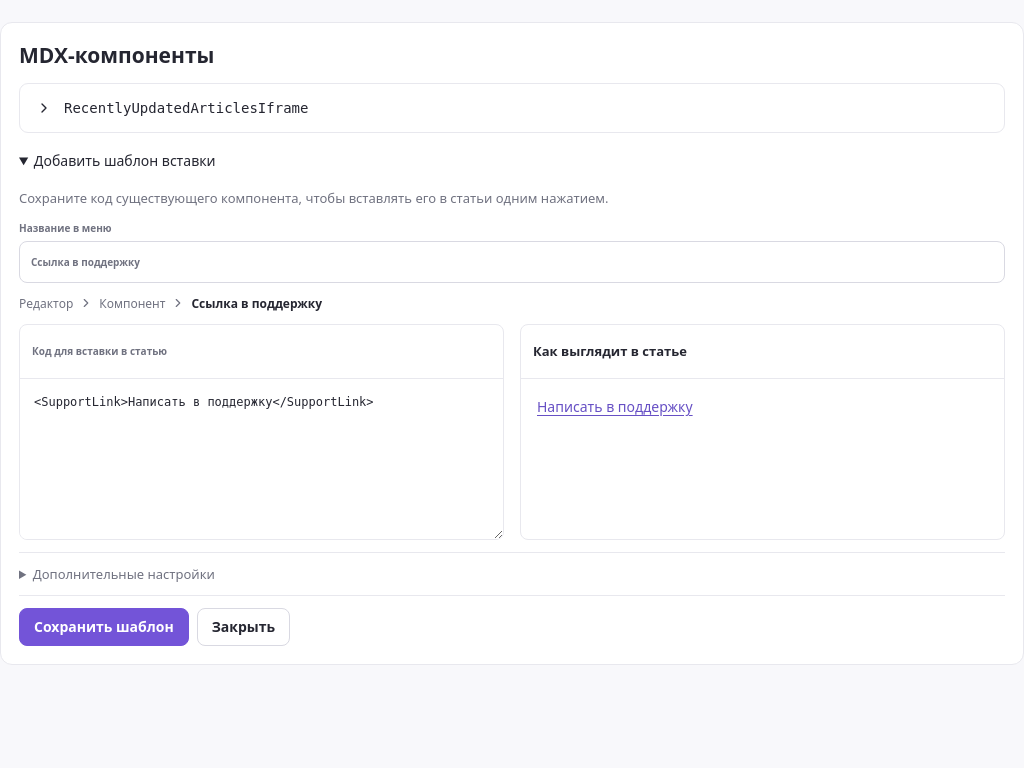
shows where the template is used, previews edits and saves the template fields
Replace the text in the field labelled "Название в меню" with "Помощь" at (512, 262), box [19,241,1005,283]
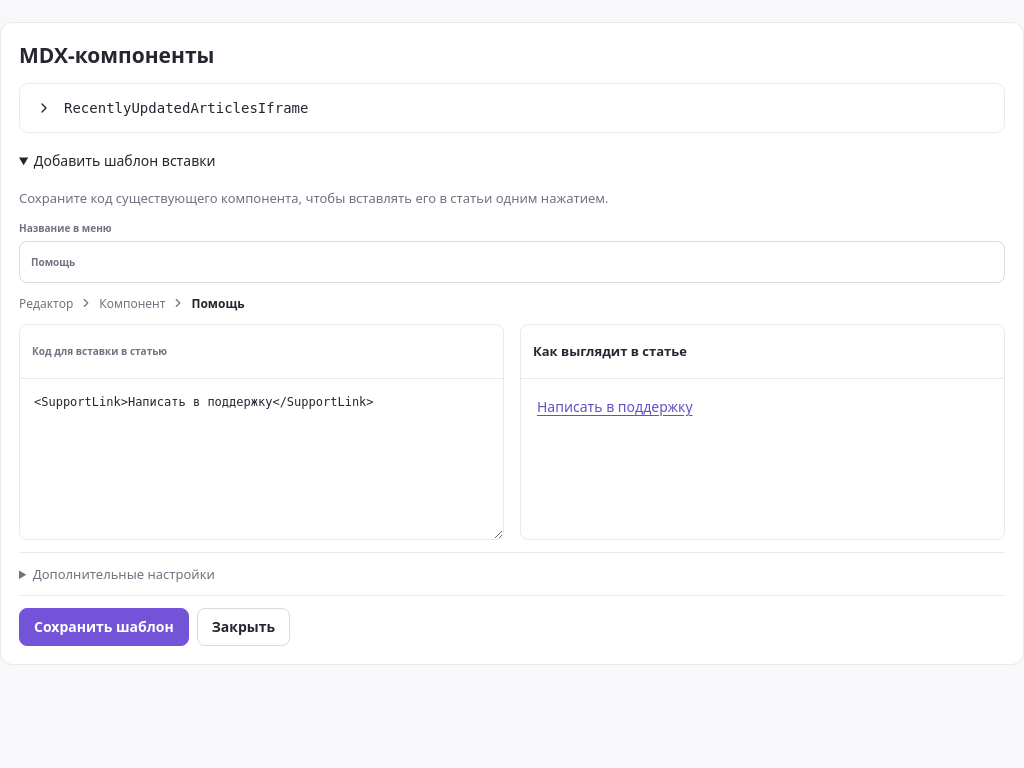
Replace the text in the text box labelled "Код для вставки в статью" with "<SupportLink>Связаться с нами</SupportLink>" at (262, 459), box [20,379,503,539]
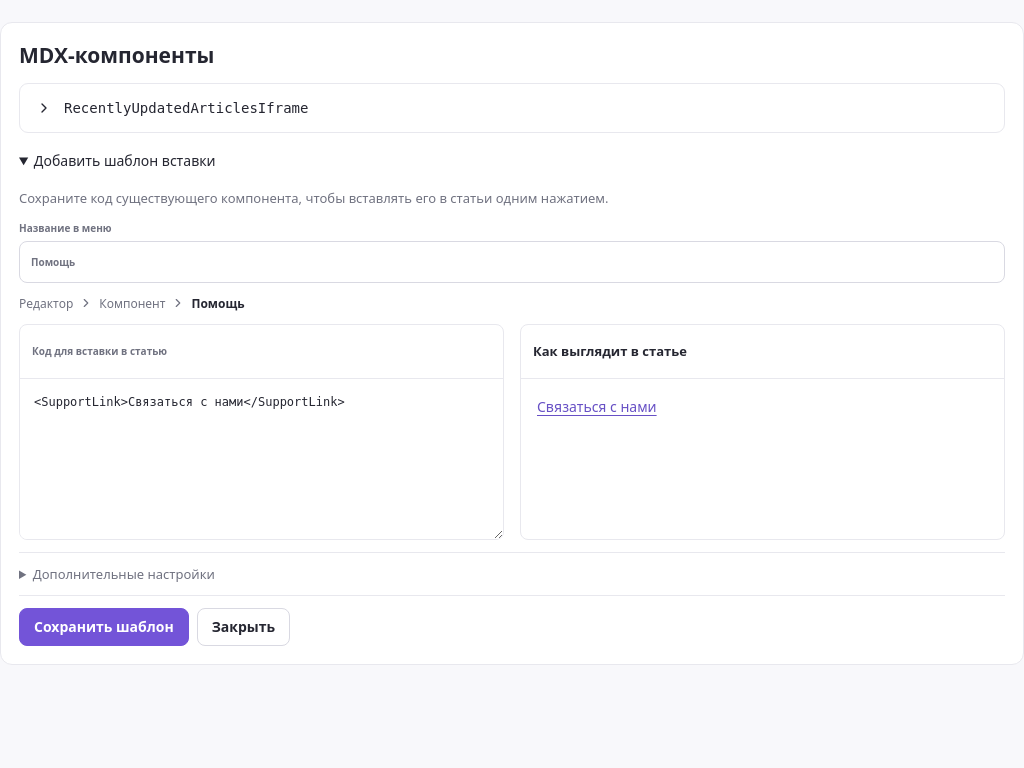
Now the text "Связаться с нами" is shown, box [537,397,657,416]
Submit the form, box [19,182,1005,646]
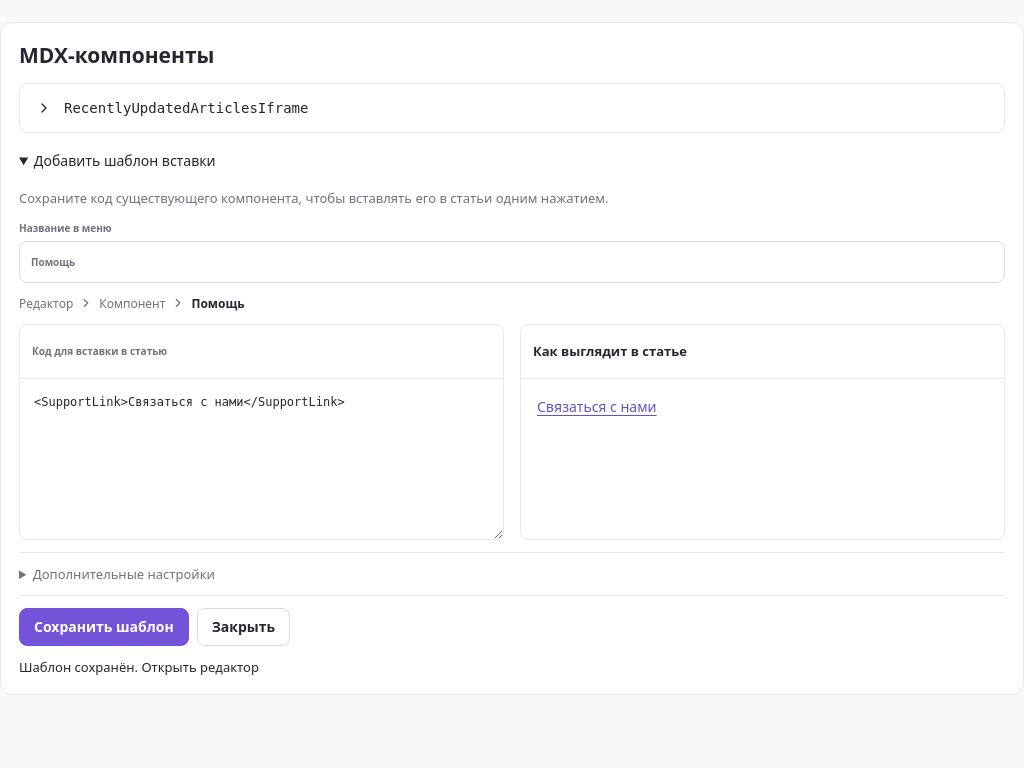
Now the message "Шаблон сохранён. Открыть редактор" is shown, box [19,658,259,676]
